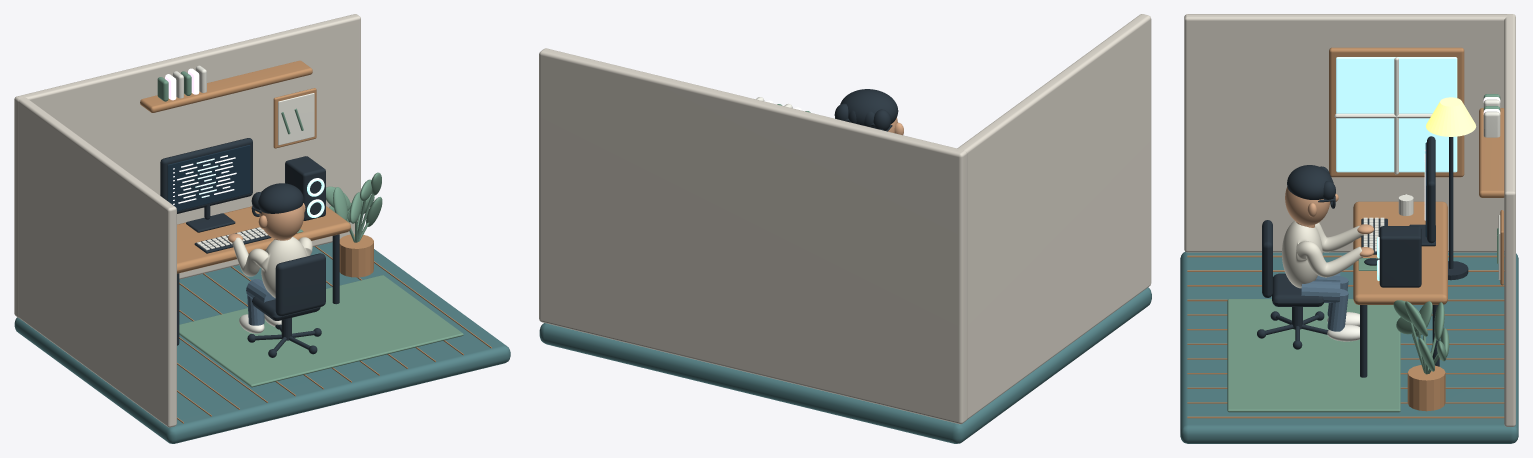
File: studio.glb
The picture shows the model from 3 angles, left to right: view 1: azimuth 30°, elevation 25°; view 2: azimuth 150°, elevation 25°; view 3: azimuth 270°, elevation 25°; orthographic projection. The views are drawn at different scales.
Parts seen in each view (by area): view 1: Left wall, Back wall, Room foundation, Rug, Desktop, Screen, Chair back, Floating shelf, Sweatshirt, PC tower, Print paper, Monitor (+7 smaller); view 2: Back wall, Left wall, Room foundation, Hair cap; view 3: Left wall, Room foundation, Rug, Window sky, Desktop, Back wall, Window frame, Sweatshirt, PC tower, Floating shelf, Plant pot, Lamp shade (+16 smaller).
Boxes of the visible parts, <box> form: Left wall: <box>18,96,176,427</box>; Back wall: <box>14,14,360,317</box>; Room foundation: <box>14,242,510,443</box>; Rug: <box>179,275,463,387</box>; Desktop: <box>177,206,350,273</box>; Screen: <box>167,145,250,211</box>; Chair back: <box>275,253,325,316</box>; Floating shelf: <box>140,60,312,112</box>; Sweatshirt: <box>232,236,312,297</box>; PC tower: <box>285,156,325,220</box>; Print paper: <box>278,93,314,145</box>; Monitor: <box>160,138,252,213</box>; Back wall: <box>539,48,967,424</box>; Left wall: <box>956,14,1151,419</box>; Room foundation: <box>539,287,1151,443</box>; Hair cap: <box>840,89,898,125</box>; Left wall: <box>1184,14,1507,252</box>; Room foundation: <box>1180,251,1518,443</box>; Rug: <box>1227,299,1400,412</box>; Window sky: <box>1336,57,1457,172</box>; Desktop: <box>1353,201,1447,304</box>; Back wall: <box>1504,14,1515,426</box>; Window frame: <box>1329,47,1464,177</box>; Sweatshirt: <box>1282,220,1363,288</box>; PC tower: <box>1379,226,1421,287</box>; Floating shelf: <box>1479,108,1504,197</box>; Plant pot: <box>1407,365,1445,411</box>; Lamp shade: <box>1426,97,1476,136</box>.
Bounding box in the file's own units: 5.4 × 3.56 × 4.3.
